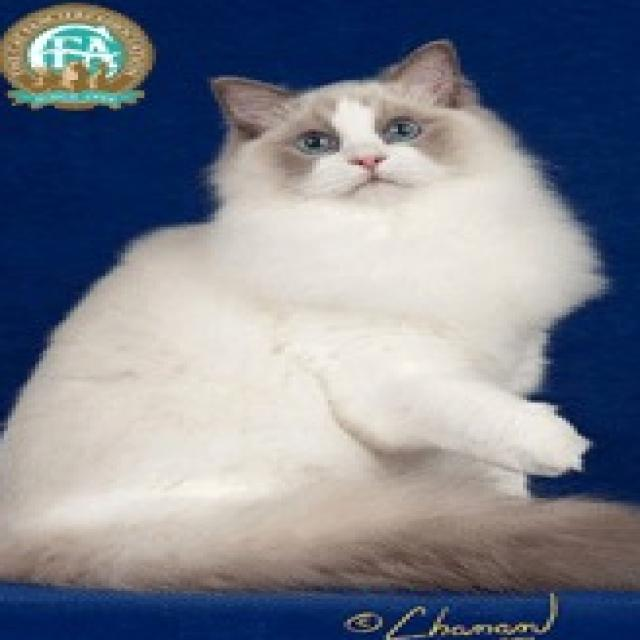Ragdoll: (0, 36, 640, 594)
